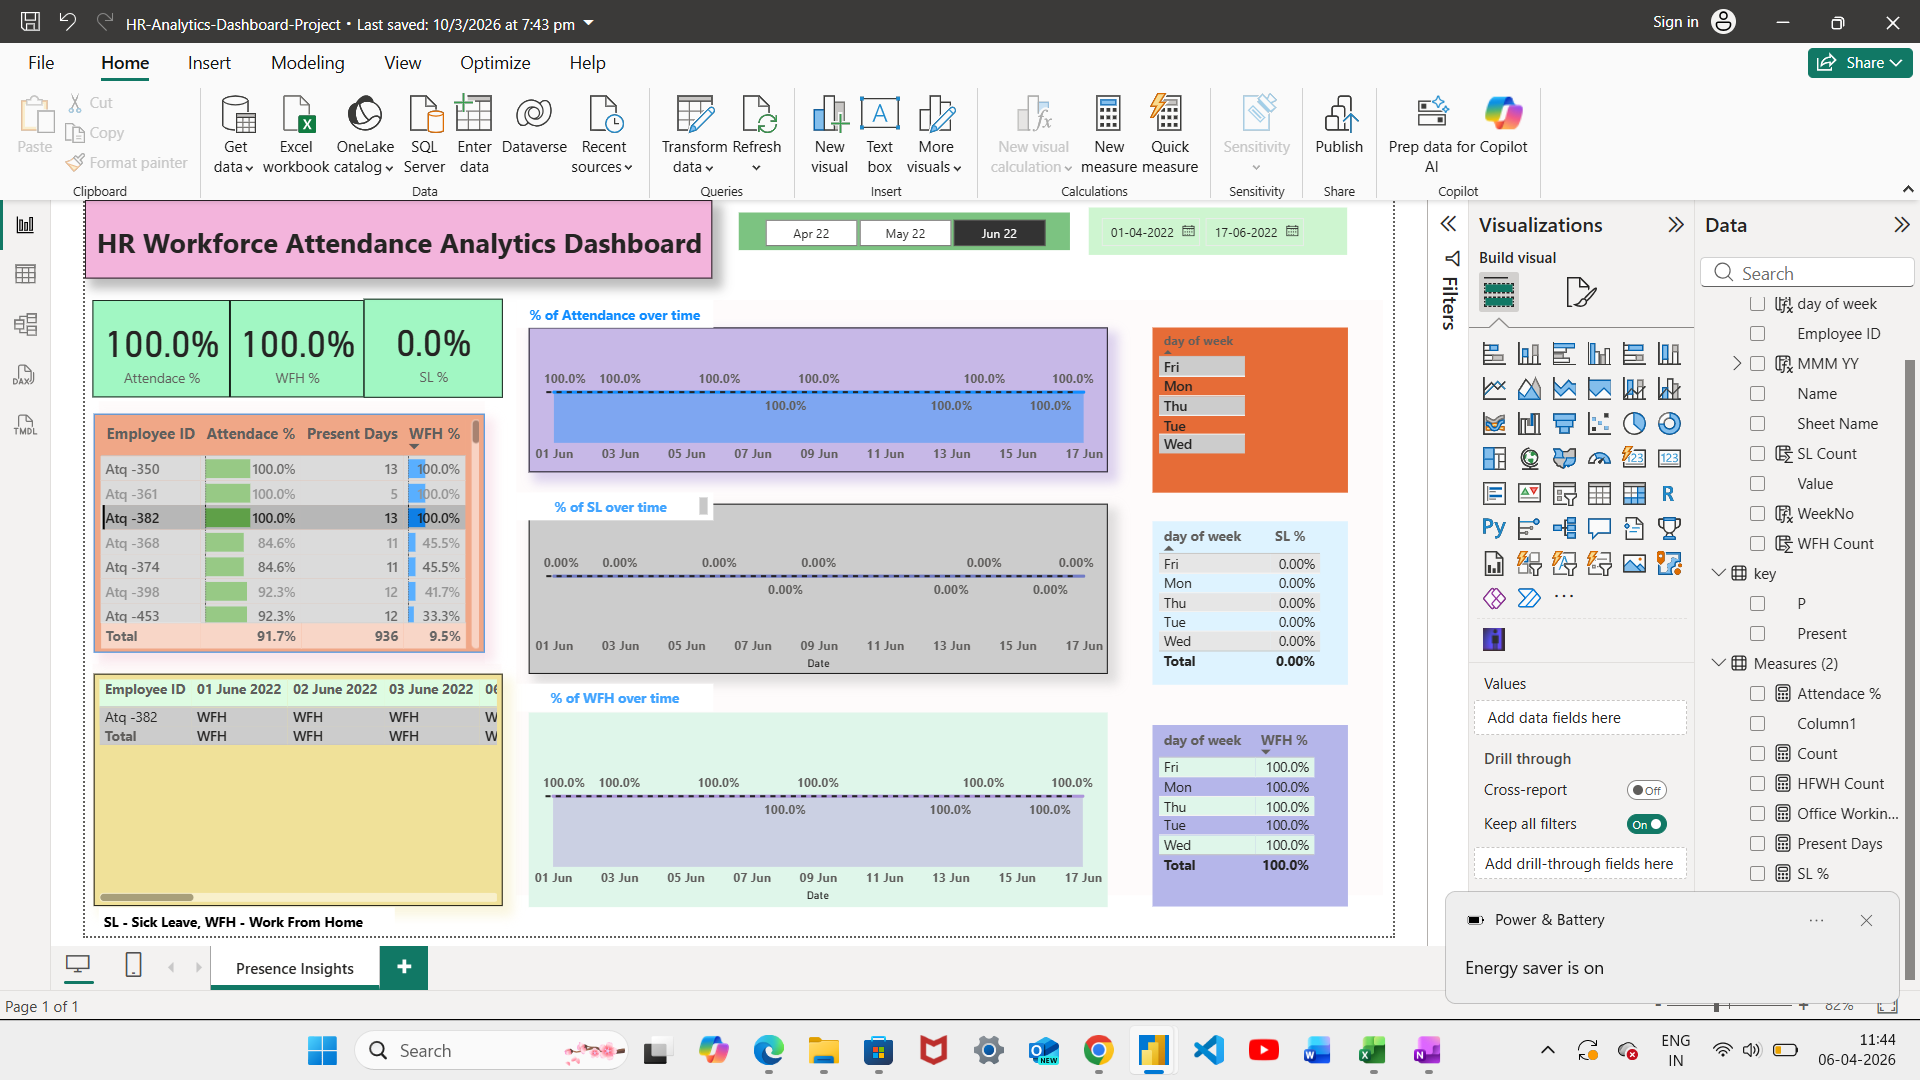

The page's visual inventory and layout, read from the dashboard file:
{"tool":"powerbi","page":{"name":"Presence Insights","canvas":[1280,720],"ordinal":0},"visuals":[{"type":"textbox","box":[13.5,196.9,377.9,256.8],"z":0},{"type":"textbox","box":[7.8,453.3,399.8,227.6],"z":1000},{"type":"textbox","box":[422.3,97.9,848.1,582.3],"z":2000},{"type":"textbox","box":[7.8,98,399.9,95.4],"z":3000},{"type":"slicer","fields":{"Values":["Final Data.Date"]},"box":[982.5,7.5,252.5,46.2],"z":4000},{"type":"slicer","fields":{"Values":["Final Data.MMM YY"]},"box":[639.5,12.2,324.1,36.7],"z":5000},{"type":"areaChart","fields":{"Category":["Final Data.MMM YY","Final Data.Date"],"Y":["Measures (2).WFH %"]},"box":[433.8,501.2,566.2,190],"z":6000},{"type":"areaChart","fields":{"Category":["Final Data.WeekNo","Final Data.Date"],"Y":["Measures (2).Attendace %"]},"box":[433.8,125,566.2,141.2],"z":7000},{"type":"card","fields":{"Values":["Measures (2).Attendace %"]},"box":[7.3,97.8,134.5,95.4],"z":8000},{"type":"card","fields":{"Values":["Measures (2).WFH %"]},"box":[141.8,97.8,130.8,95.4],"z":9000},{"type":"areaChart","fields":{"Category":["Final Data.MMM YY","Final Data.Date"],"Y":["Measures (2).SL %"]},"box":[433.8,297.5,566.2,166.2],"z":10000},{"type":"card","fields":{"Values":["Measures (2).SL %"]},"box":[272.7,96.6,135.7,96.6],"z":11000},{"type":"textbox","box":[0,0,613.9,77],"z":12000},{"type":"textbox","box":[422.4,98.2,192.5,27.5],"z":13000},{"type":"textbox","box":[422.5,286.3,192.6,26.9],"z":14000},{"type":"textbox","box":[422.1,473.7,192.6,27.2],"z":15000},{"type":"pivotTable","fields":{"Rows":["Final Data.Employee ID"],"Columns":["Final Data.Date"],"Values":["Min(Final Data.Value)"]},"box":[8.8,463.8,400,227.5],"z":16000},{"type":"textbox","box":[13.6,691.6,289.8,28.2],"z":17000},{"type":"tableEx","fields":{"Values":["Final Data.day of week"]},"box":[1043.8,125,191.2,161.2],"z":18000},{"type":"tableEx","fields":{"Values":["Final Data.day of week","Measures (2).SL %"]},"box":[1043.8,313.8,191.2,160],"z":19000},{"type":"tableEx","fields":{"Values":["Final Data.day of week","Measures (2).WFH %"]},"box":[1043.8,513.8,191.2,177.5],"z":20000},{"type":"tableEx","fields":{"Values":["Final Data.Employee ID","Measures (2).Attendace %","Measures (2).Present Days","Measures (2).WFH %"]},"box":[8.8,208.8,400,233.8],"z":21000}]}

Visuals, with their boxes on the page's 1280x720 design canvas (x1, y1, x2, y2). These are canvas units, not pixel positions in the 1920x1080 screenshot, which may show the page scaled, cropped or inside an application window:
textbox: (left=14, top=197, right=391, bottom=454)
textbox: (left=8, top=453, right=408, bottom=681)
textbox: (left=422, top=98, right=1270, bottom=680)
textbox: (left=8, top=98, right=408, bottom=193)
slicer - Final Data.Date: (left=982, top=8, right=1235, bottom=54)
slicer - Final Data.MMM YY: (left=640, top=12, right=964, bottom=49)
areaChart - Final Data.MMM YY x Final Data.Date: (left=434, top=501, right=1000, bottom=691)
areaChart - Final Data.WeekNo x Final Data.Date: (left=434, top=125, right=1000, bottom=266)
card - Measures (2).Attendace %: (left=7, top=98, right=142, bottom=193)
card - Measures (2).WFH %: (left=142, top=98, right=273, bottom=193)
areaChart - Final Data.MMM YY x Final Data.Date: (left=434, top=298, right=1000, bottom=464)
card - Measures (2).SL %: (left=273, top=97, right=408, bottom=193)
textbox: (left=0, top=0, right=614, bottom=77)
textbox: (left=422, top=98, right=615, bottom=126)
textbox: (left=422, top=286, right=615, bottom=313)
textbox: (left=422, top=474, right=615, bottom=501)
pivotTable - Final Data.Employee ID x Final Data.Date: (left=9, top=464, right=409, bottom=691)
textbox: (left=14, top=692, right=303, bottom=720)
tableEx - Final Data.day of week: (left=1044, top=125, right=1235, bottom=286)
tableEx - Final Data.day of week x Measures (2).SL %: (left=1044, top=314, right=1235, bottom=474)
tableEx - Final Data.day of week x Measures (2).WFH %: (left=1044, top=514, right=1235, bottom=691)
tableEx - Final Data.Employee ID x Measures (2).Attendace %: (left=9, top=209, right=409, bottom=443)
